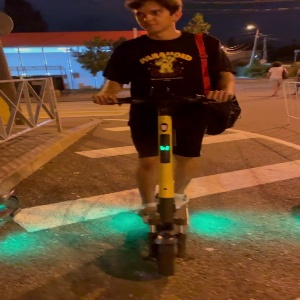human on a scooter: (91, 1, 245, 278)
